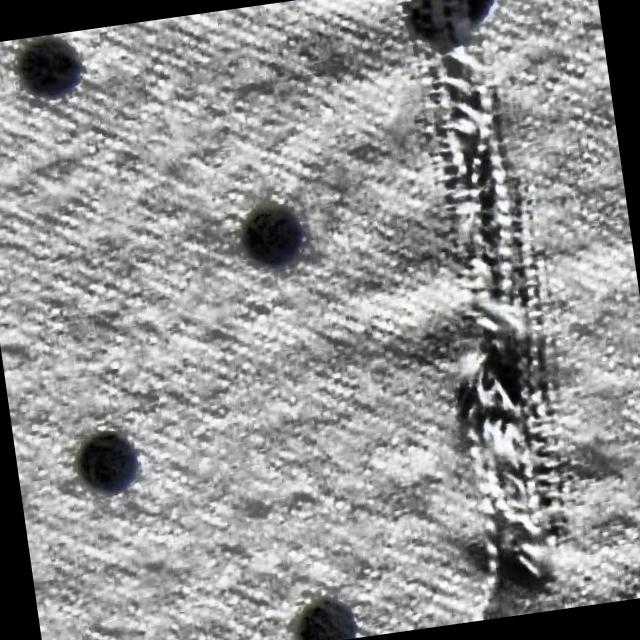gray stitch: (382, 0, 593, 621)
